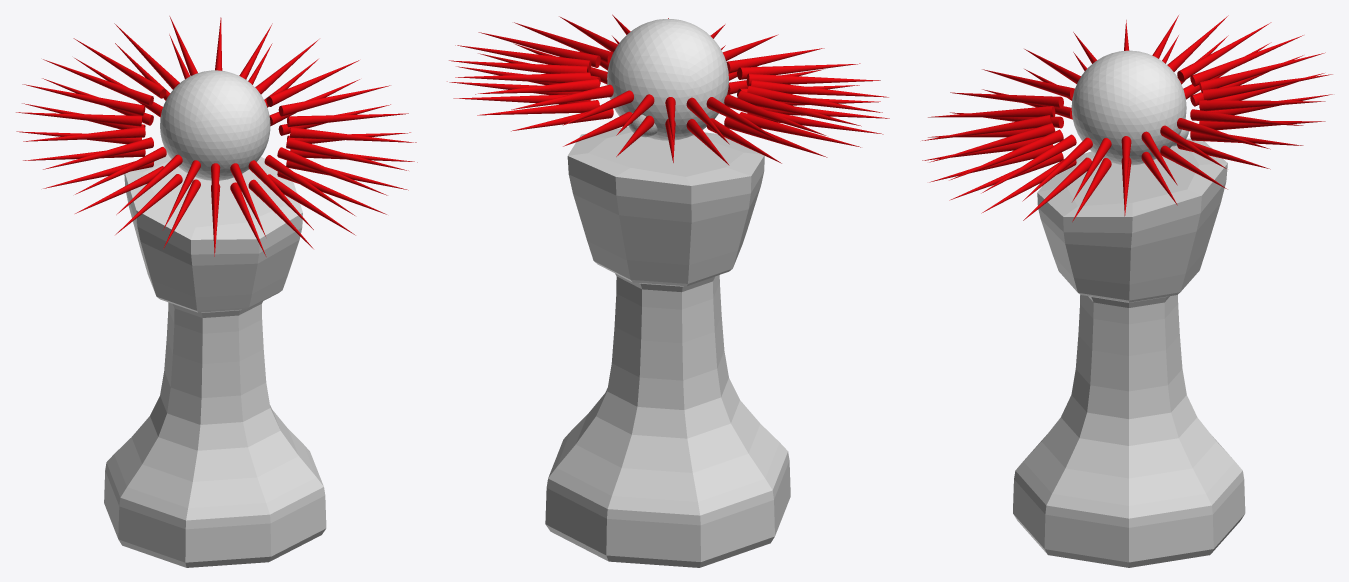
The model's file is Chess_Quen.fbx.
The picture shows the model from 3 angles, left to right: view 1: azimuth 30°, elevation 25°; view 2: azimuth 150°, elevation 25°; view 3: azimuth 270°, elevation 25°; orthographic projection. The views are drawn at different scales.
Parts seen in each view (by area): view 1: Cube; view 2: Cube; view 3: Cube.
Part boxes in pixels (x1,y1,x2,y2): Cube: [16, 16, 417, 567]; Cube: [447, 14, 889, 567]; Cube: [922, 15, 1332, 567].
Size of the model in its own units: 167 by 204 by 165.
